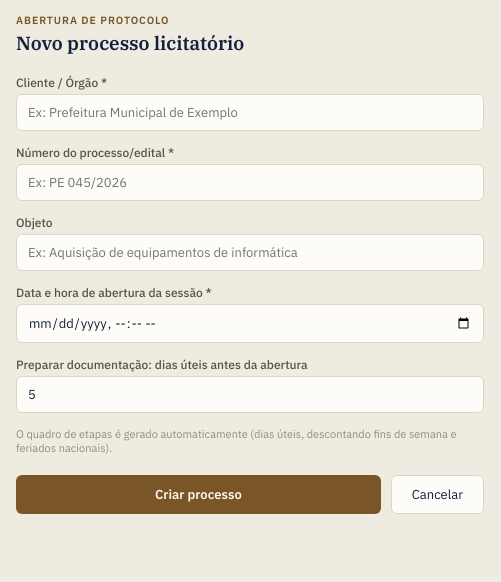
FormularioProcesso › exibe erros de validação quando campos obrigatórios estão vazios
Click the button "Criar processo" at (198, 494), box x1=16 y1=475 x2=381 y2=514
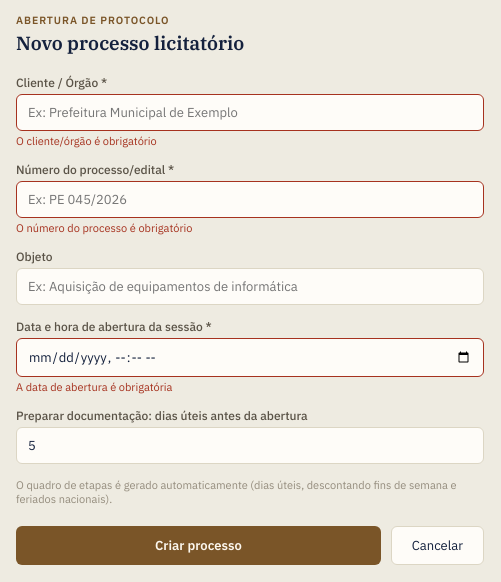
Expected: the text "O cliente/órgão é obrigatório" is shown, x1=16 y1=134 x2=157 y2=148
Expected: the text "O número do processo é obrigatório" is shown, x1=16 y1=221 x2=192 y2=235
Expected: the text "A data de abertura é obrigatória" is shown, x1=16 y1=380 x2=172 y2=394
